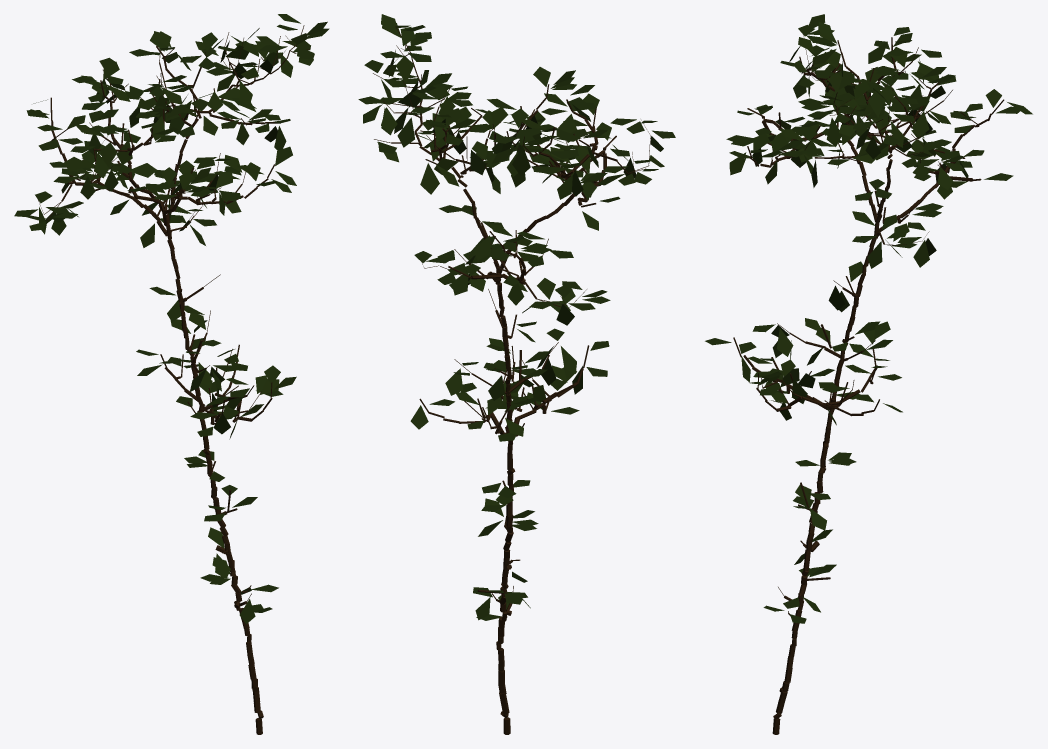
File: tree_296.obj
The picture shows the model from 3 angles, left to right: view 1: azimuth 30°, elevation 25°; view 2: azimuth 150°, elevation 25°; view 3: azimuth 270°, elevation 25°; orthographic projection. The views are drawn at different scales.
Visible parts, largest first — view 1: Leaves, TrunkAndBranches; view 2: Leaves, TrunkAndBranches; view 3: Leaves, TrunkAndBranches.
Boxes of the visible parts, x1=… form: Leaves: x1=14, y1=14, x2=329, y2=624; TrunkAndBranches: x1=36, y1=25, x2=310, y2=734; Leaves: x1=358, y1=14, x2=675, y2=620; TrunkAndBranches: x1=373, y1=26, x2=650, y2=734; Leaves: x1=705, y1=14, x2=1032, y2=623; TrunkAndBranches: x1=733, y1=34, x2=1004, y2=734.
Bounding box in the file's own units: 3.06 × 7.42 × 3.22.
